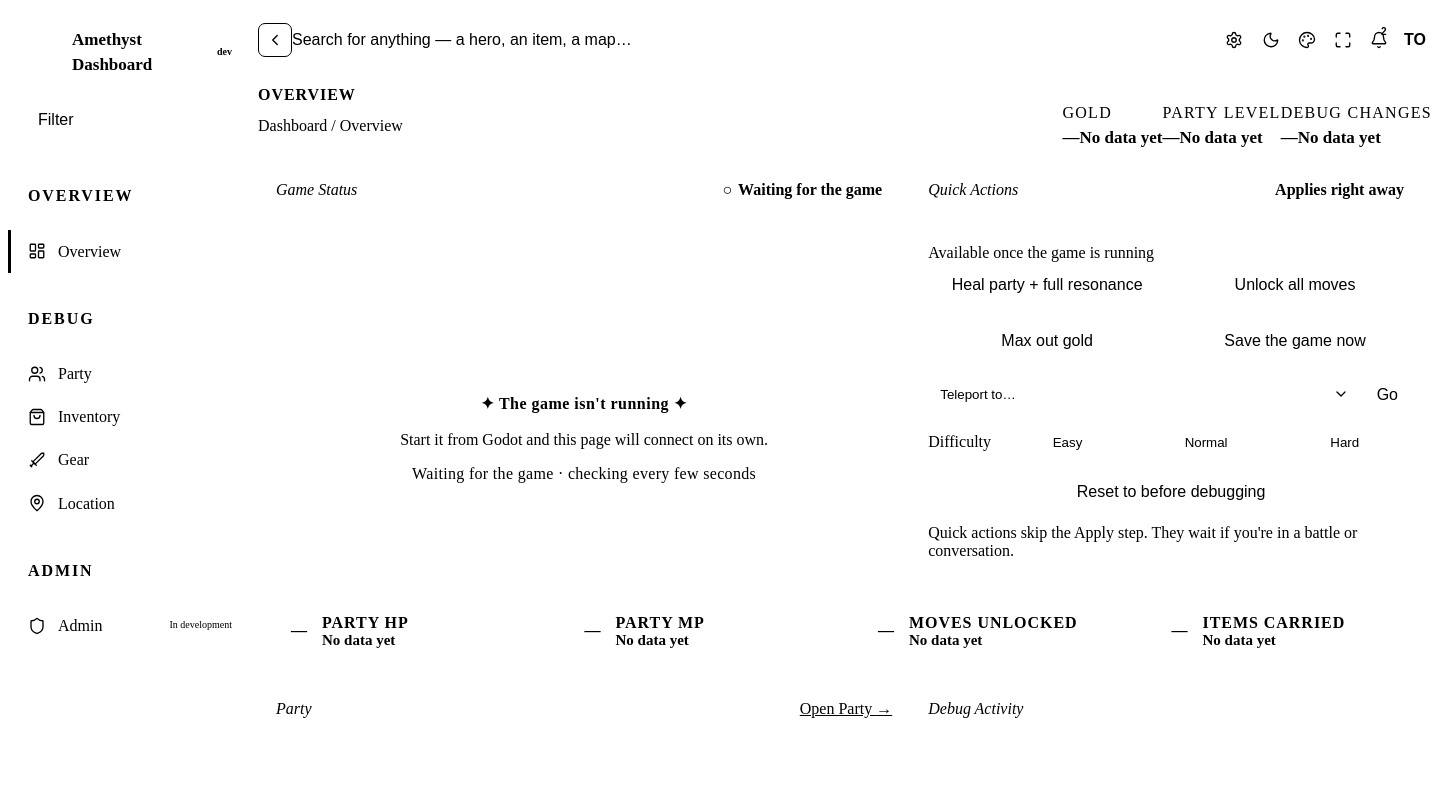
Scenario: notifications panel › the panel lists the notifications in the order the server sent them: icon, title, body, time, unread dot
The width and height of the screenshot is (1440, 810).
Click the button named "Notifications" at (1379, 40), box [1362,23,1396,57]
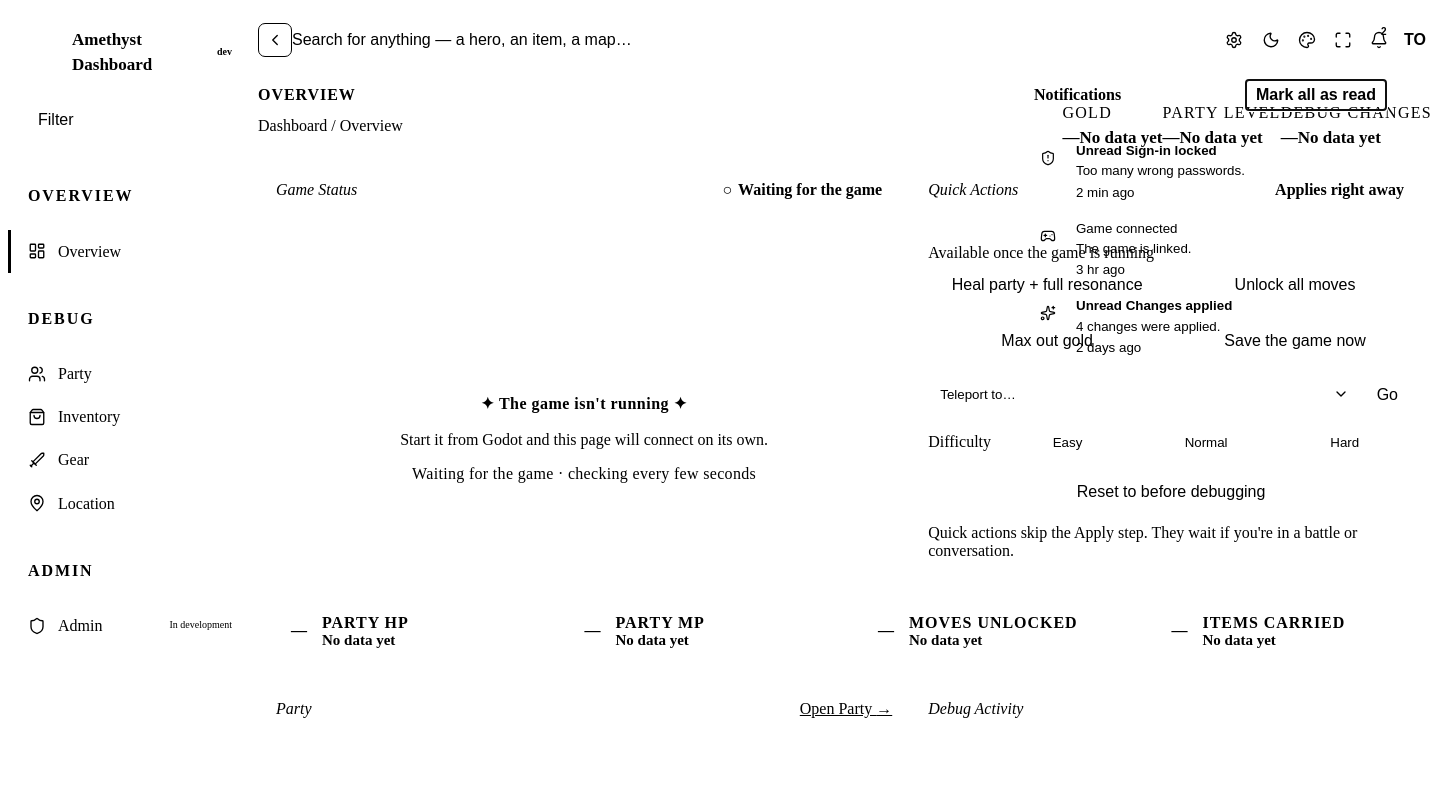
Now the text "Sign-in locked" is shown, box [1126,142,1217,158]
Now the text "Too many wrong passwords." is shown, box [1076,163,1245,178]
Now the text "2 min ago" is shown, box [1076,184,1134,200]
